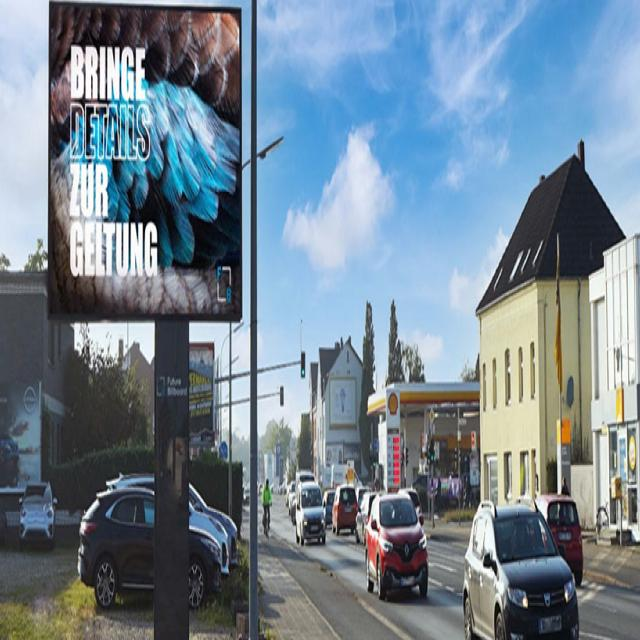Werbetafel frei: (45, 4, 242, 324)
